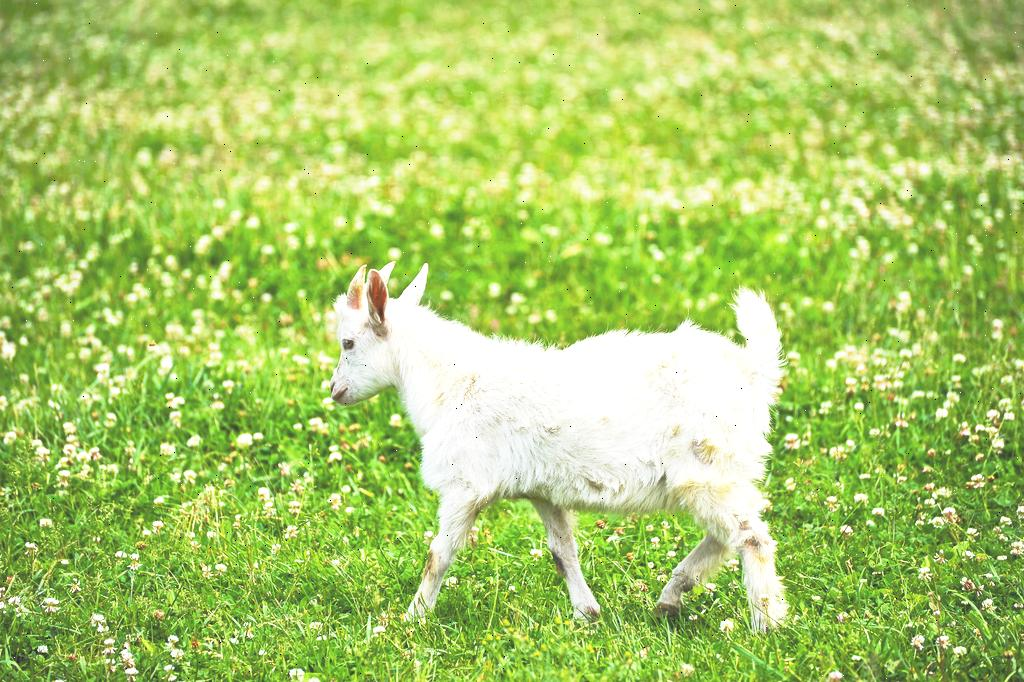Sheep: (330, 261, 788, 634)
